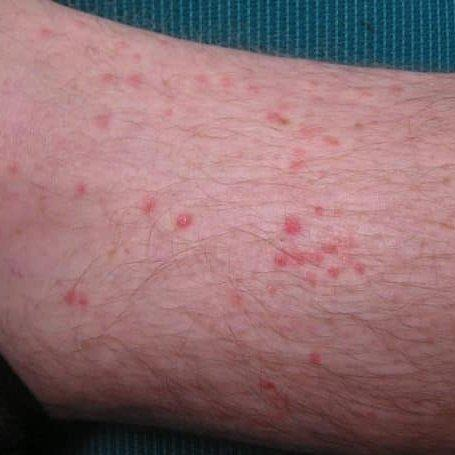Fleas: (287, 238, 353, 265), (59, 284, 104, 318), (310, 127, 343, 153), (71, 178, 101, 203), (306, 344, 330, 371), (170, 208, 198, 231), (132, 192, 156, 218), (281, 214, 304, 240), (265, 109, 288, 134), (306, 206, 334, 226), (34, 27, 58, 50), (272, 247, 294, 269), (228, 285, 250, 306), (289, 148, 306, 174), (94, 112, 113, 133), (301, 273, 324, 290), (94, 70, 114, 87), (126, 73, 143, 88), (261, 377, 278, 392)
